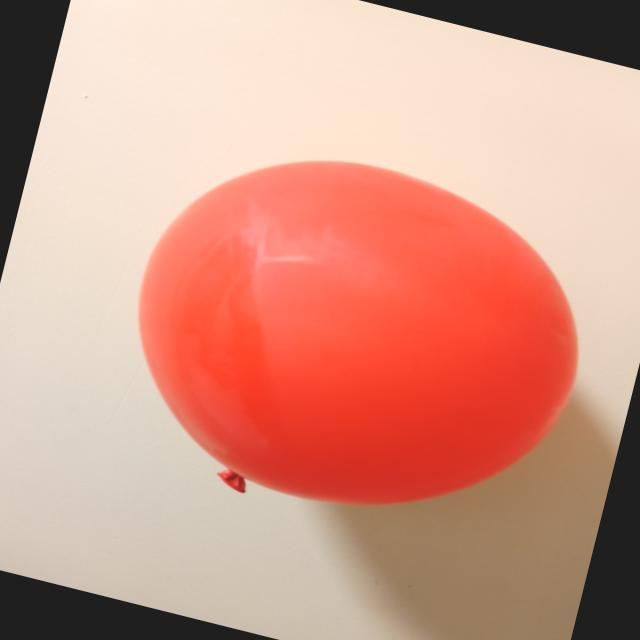balloon: (138, 161, 577, 504)
